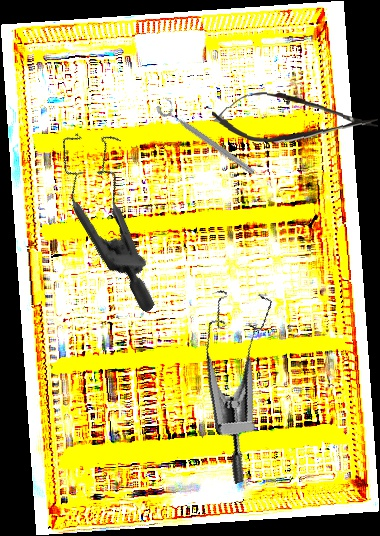Fixation Ring: (154, 95, 261, 178)
Micro Scissor: (210, 87, 380, 150)
Speculum: (10, 112, 222, 314), (175, 276, 322, 485)
